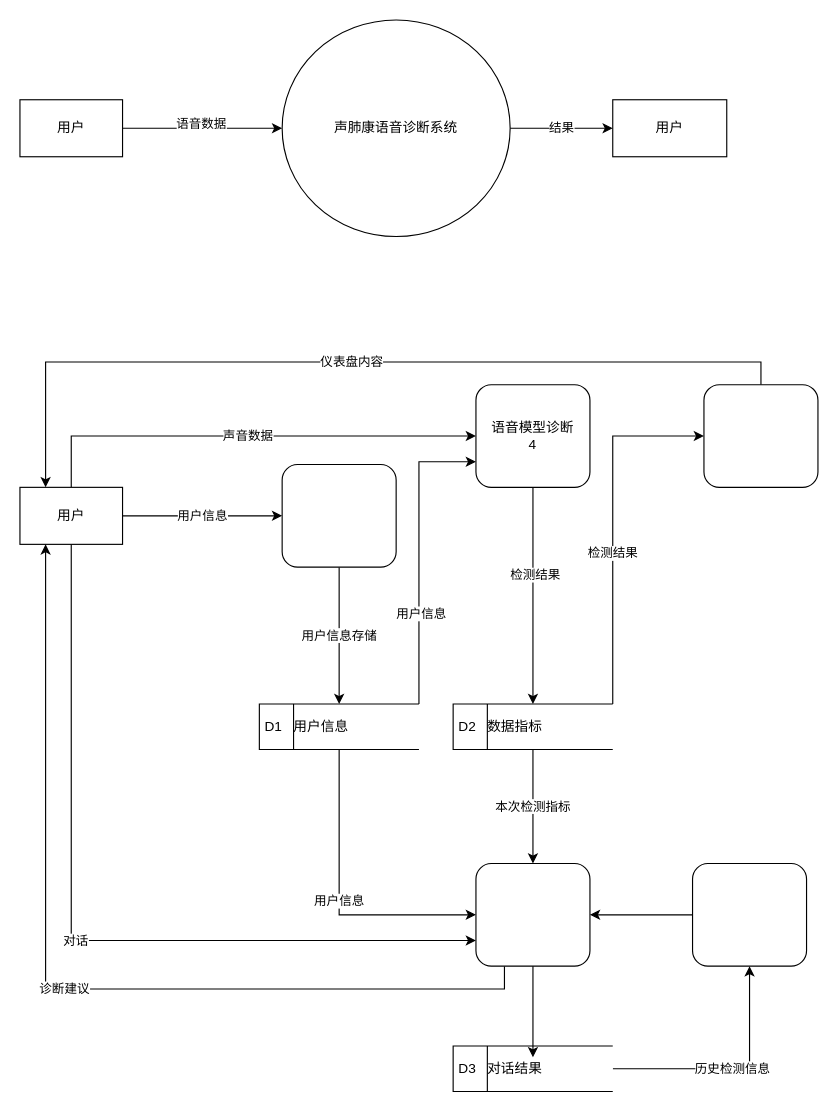
The diagram is 838 pixels wide and 1112 high, and some of its shapes have lost their labels. Here are the shapes that lost their labels. From the top down, the centre of each, then its label:
the point at 760,435: dashboard 3
the point at 338,515: 用户登陆注册 1
the point at 532,914: LLM诊断分析 2
the point at 749,914: 历史检测 数据 5
